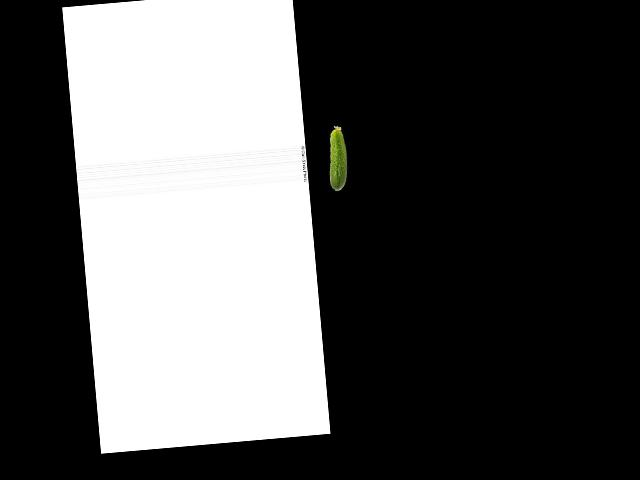cucumber: (325, 125, 349, 191)
